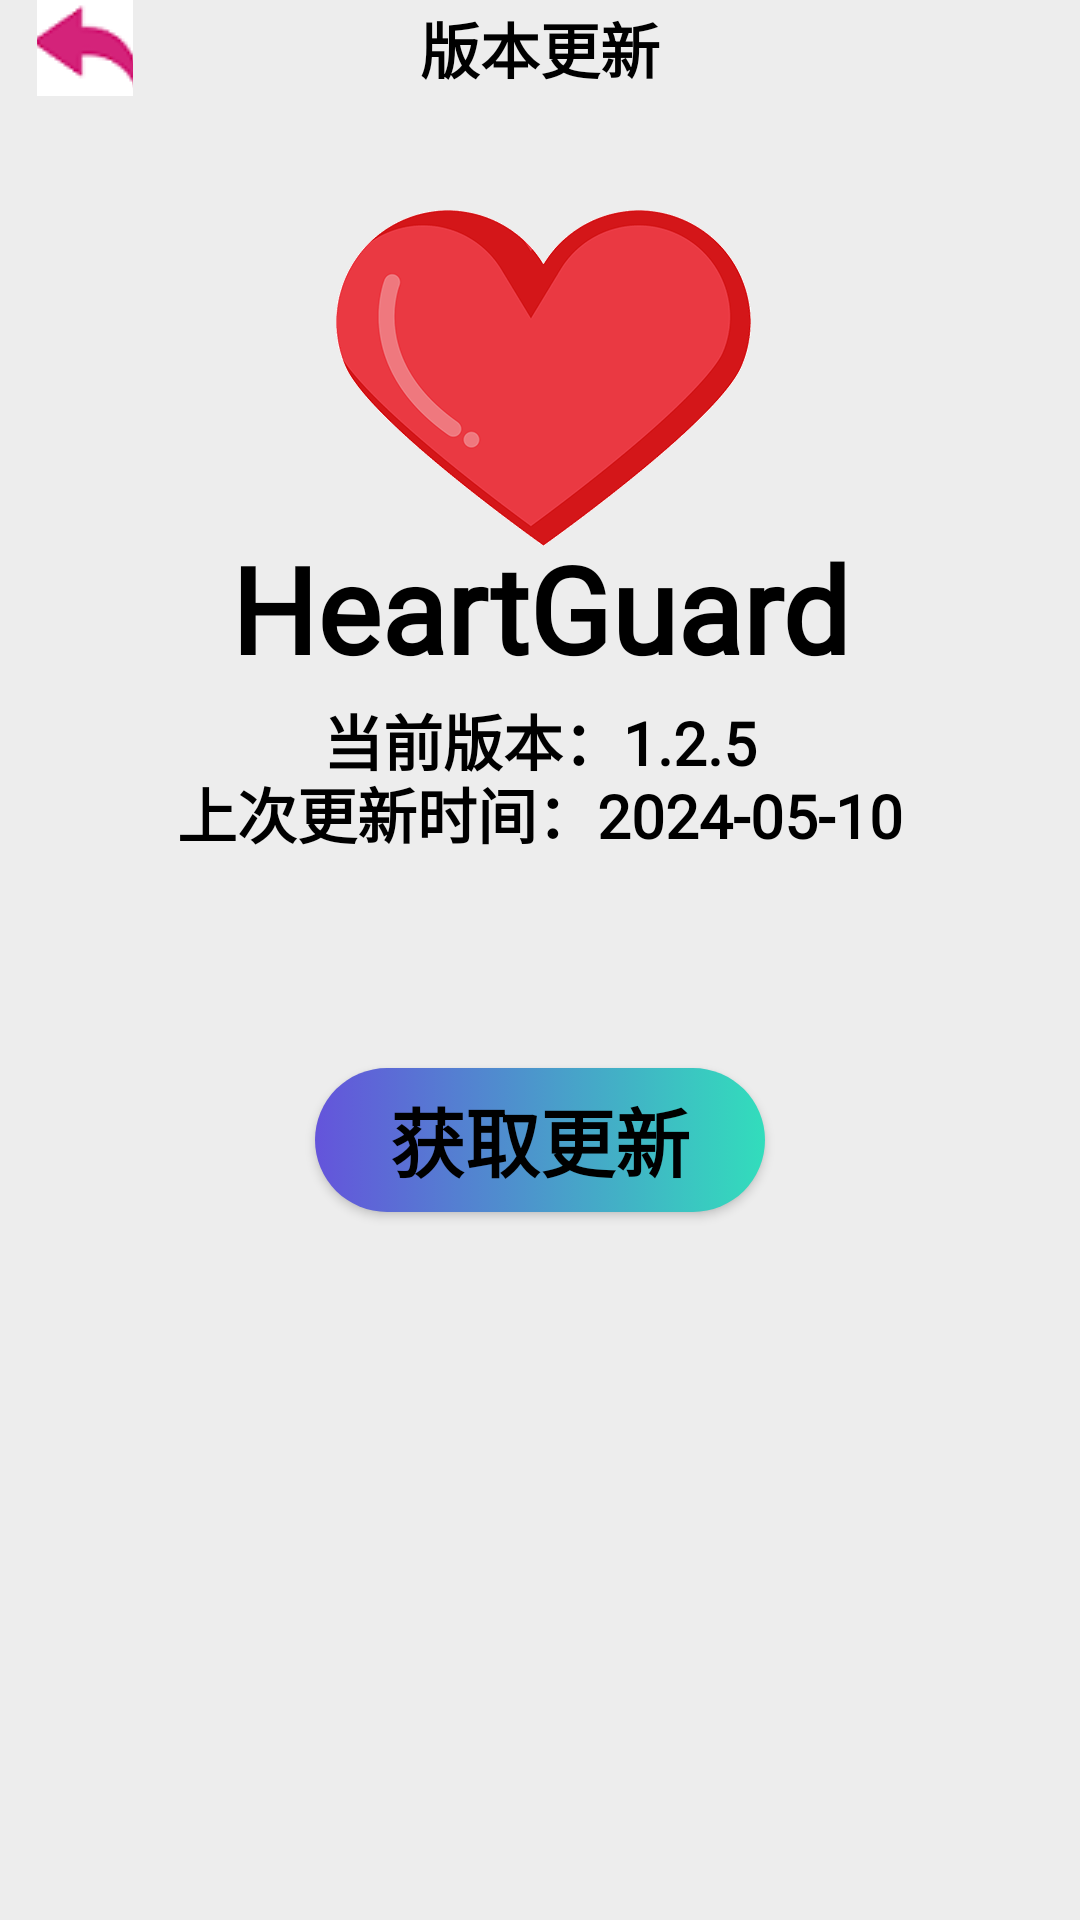

Named icons in this screenshot (1080 × 1920) and their bounding boxes, (x1, y1, x2, y2):
return: (37, 0, 133, 96)
